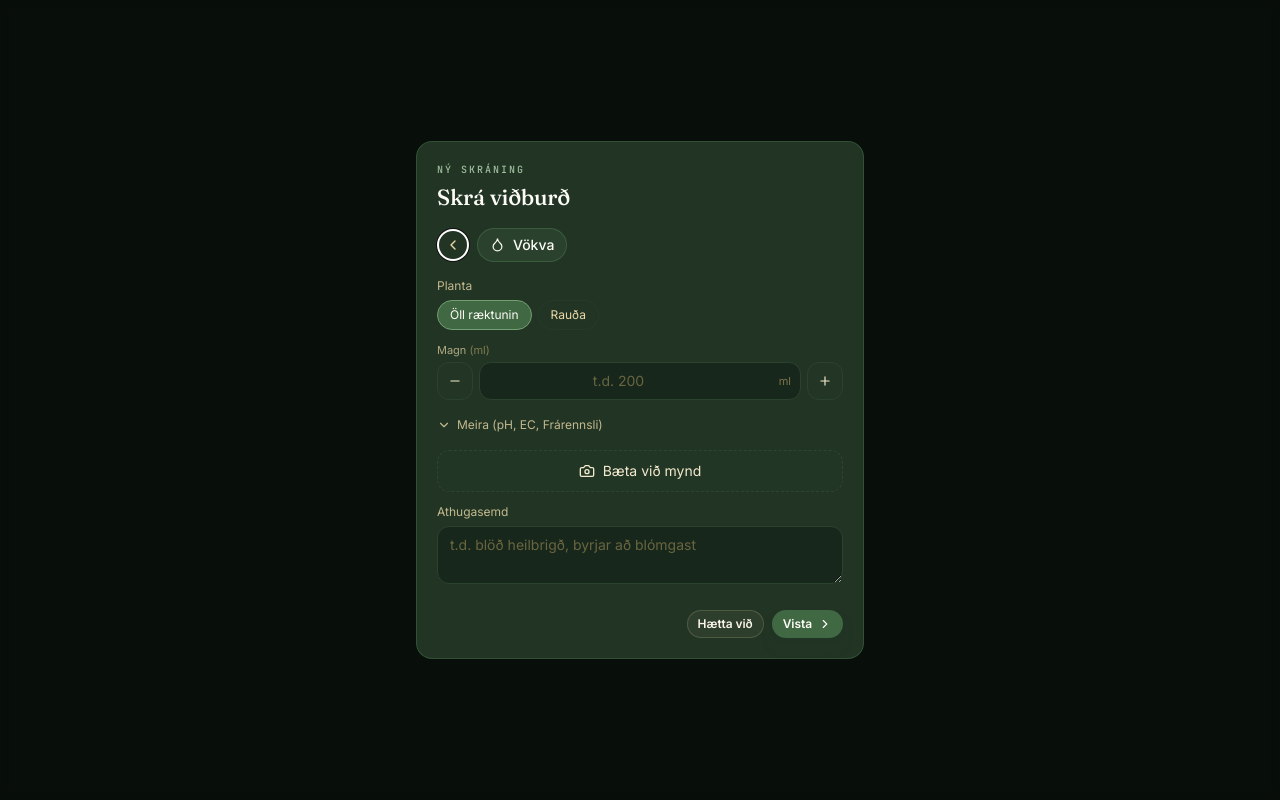
Test: LogComposer — skref 2: form eftir tegund › water: pH er ítarlegri reitur — falinn þar til „Meira" er opnað
Expected: the field with placeholder "t.d. 6.2" is not shown
Step 1. Click the button "Meira (pH, EC, Frárennsli)" → (477, 425), box left=437, top=412, right=843, bottom=438
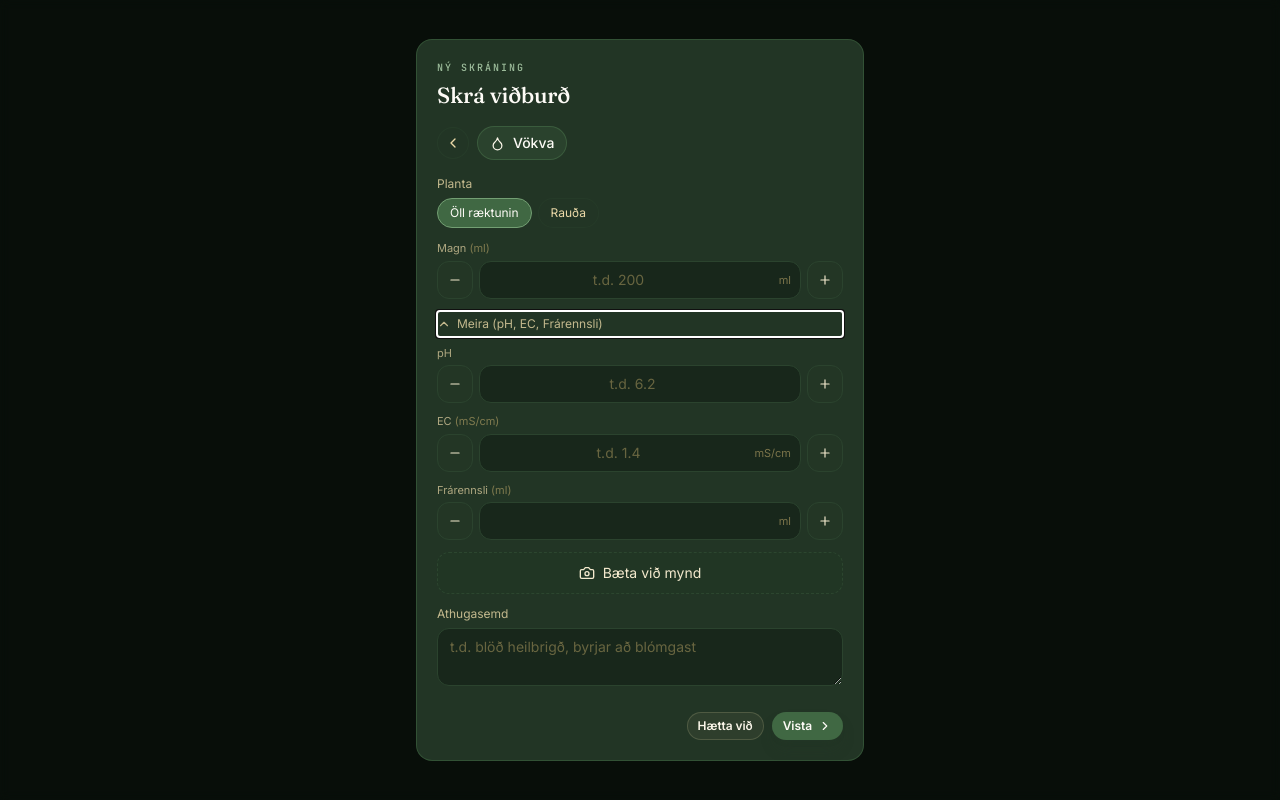
Now the number field with placeholder "t.d. 6.2" is shown, box left=479, top=365, right=801, bottom=403
